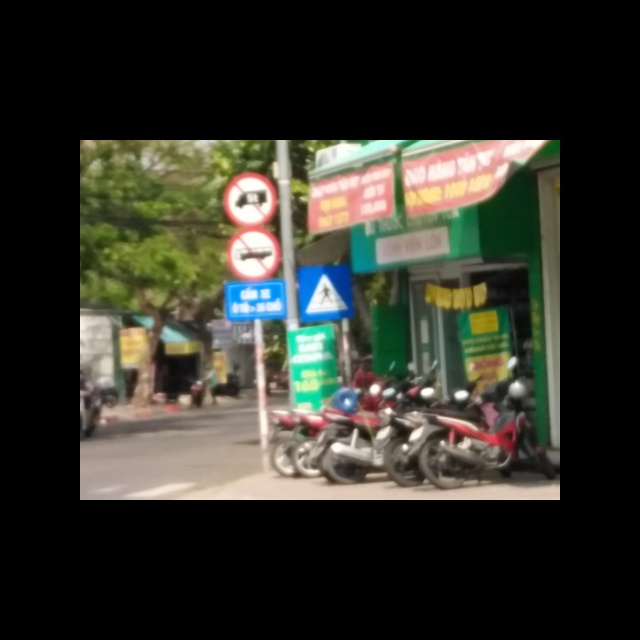Cấm xe tải: (222, 172, 278, 225)
Cấm xe xe khách: (227, 225, 281, 282)
Đường dành cho người đi bộ: (295, 265, 355, 322)
